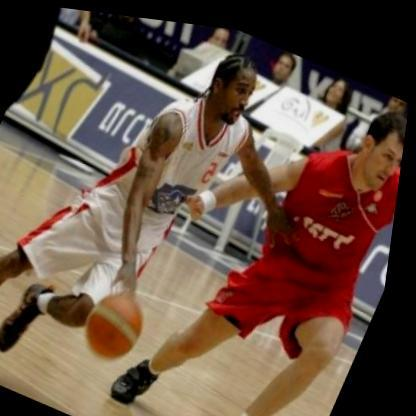basketball: (80, 273, 169, 368)
